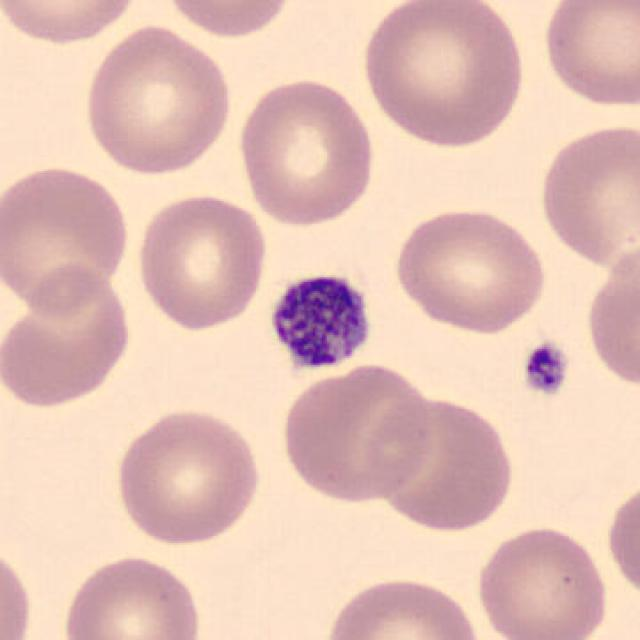Platelets: (261, 265, 377, 379), (519, 340, 571, 400)
RBC: (356, 0, 530, 150), (78, 21, 236, 178), (277, 361, 439, 506), (363, 390, 519, 536), (233, 74, 379, 229), (110, 404, 265, 548), (389, 203, 551, 337), (0, 160, 133, 319), (0, 259, 135, 413), (132, 189, 270, 333), (473, 522, 613, 640), (534, 118, 638, 268), (57, 552, 206, 640), (537, 0, 640, 111), (320, 571, 485, 640), (581, 234, 640, 395), (0, 0, 146, 48), (156, 0, 302, 41), (604, 476, 640, 607), (0, 536, 36, 640)
